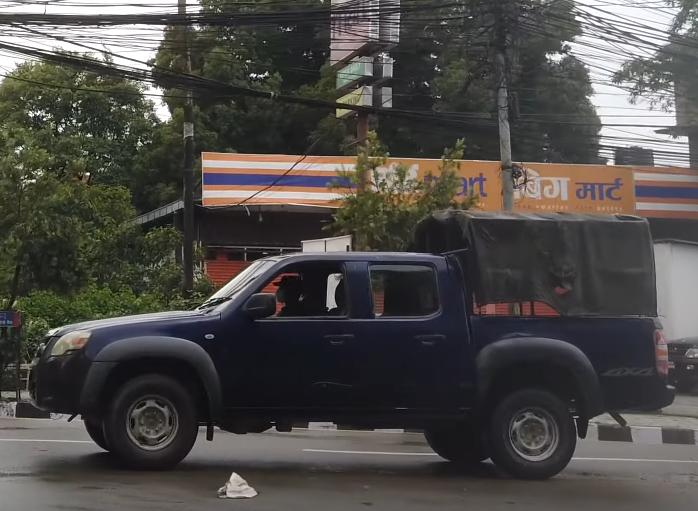police_vehicle: (24, 199, 671, 481)
